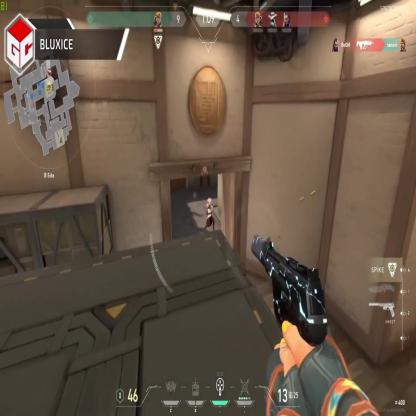enemy: (205, 198, 215, 238)
enemy_head: (207, 198, 212, 207)
